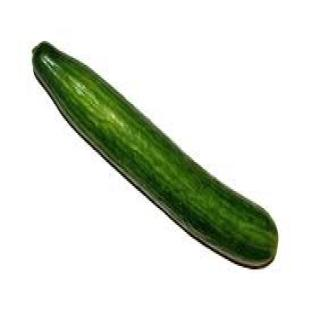Cucumber: (33, 43, 277, 267)
